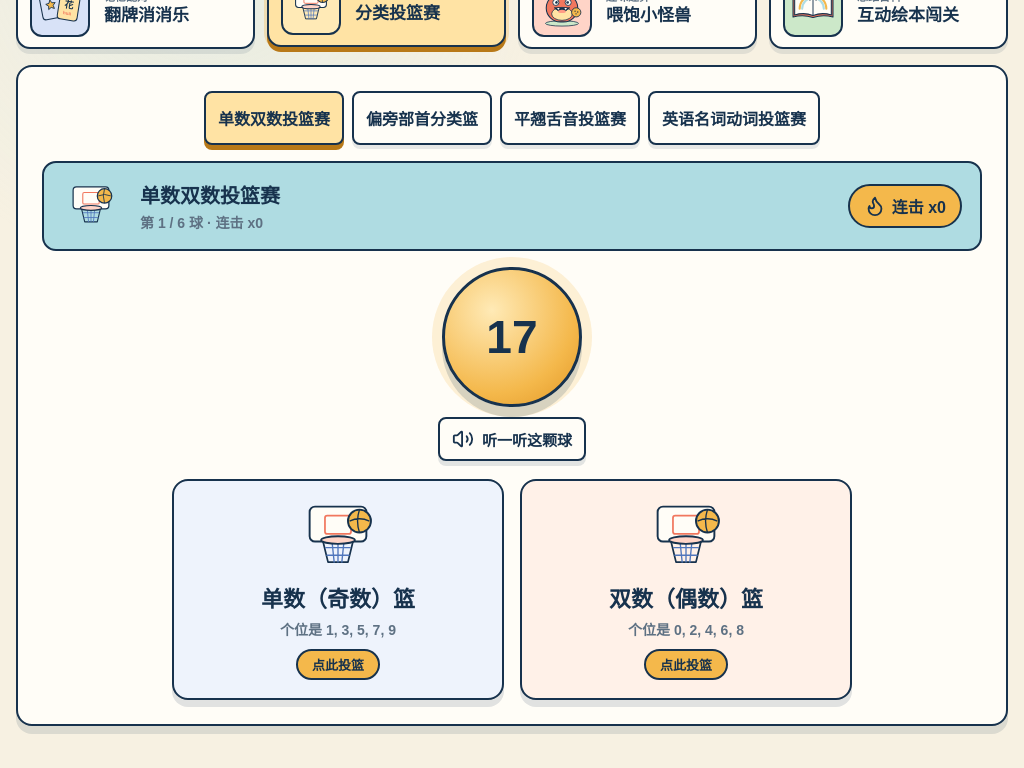
Scenario: ArcadeScreen (小芽游乐园四大互动小游戏) › switches to Sorting Basket and lets a child shoot all 6 balls into the right baskets
(page scrolled)
Click the button with test id "basket-left": click(338, 590) [172, 479, 504, 700]
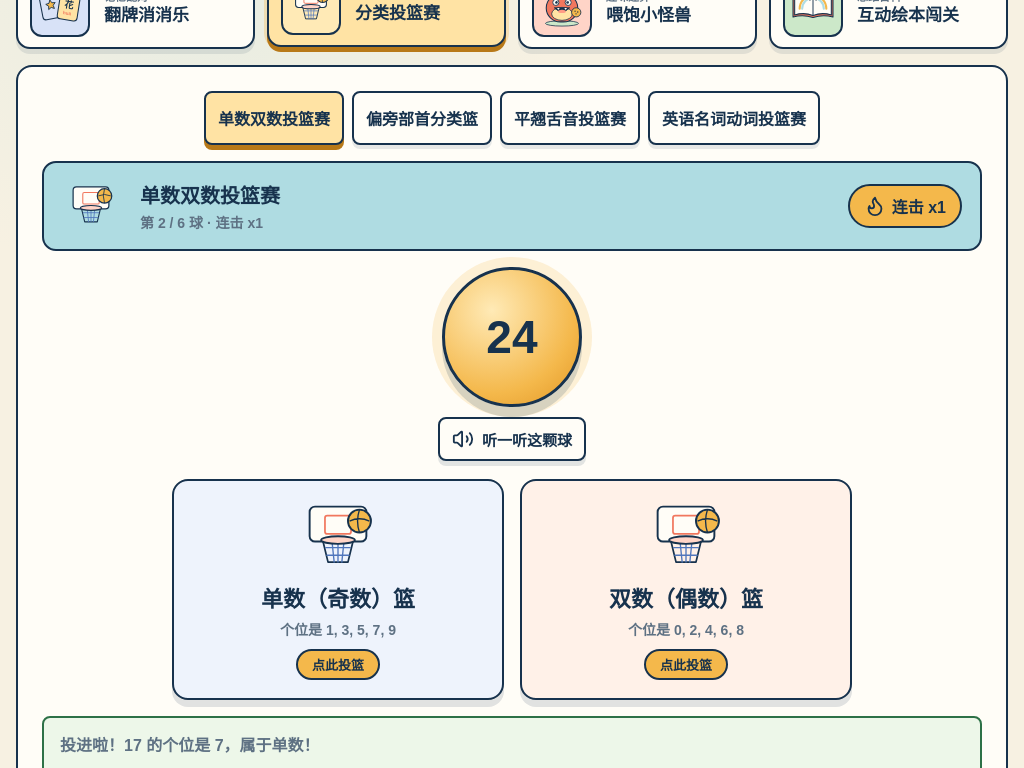
Click the button with test id "basket-right": click(686, 590) [520, 479, 852, 700]
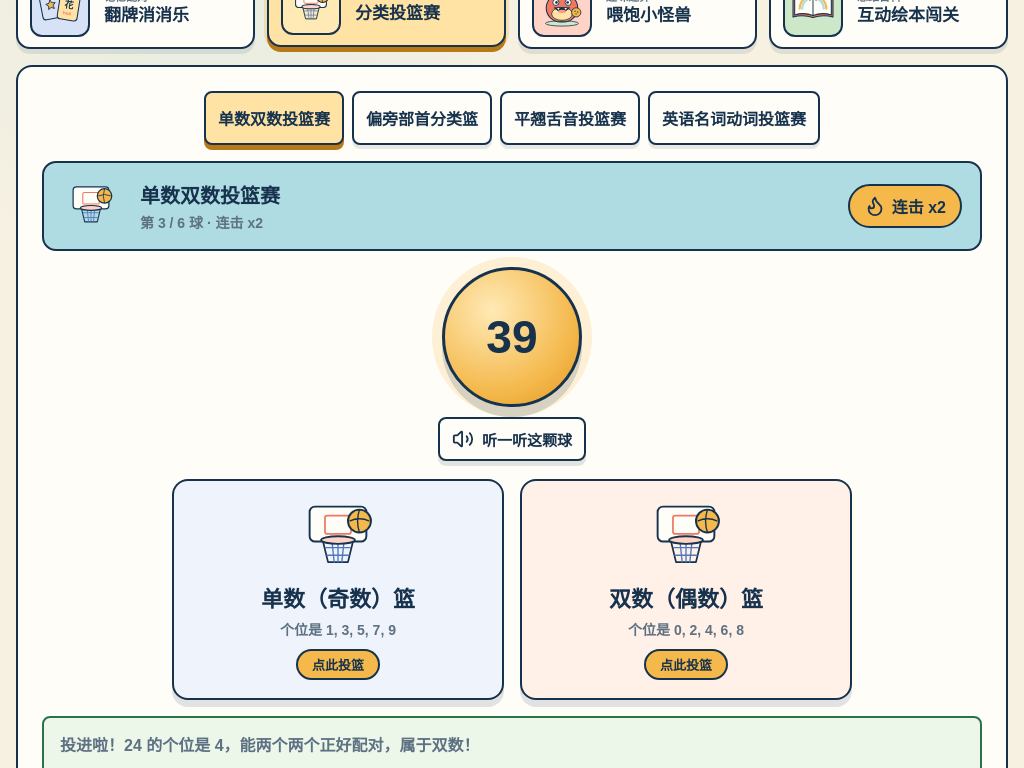
Click the button with test id "basket-left": click(338, 590) [172, 479, 504, 700]
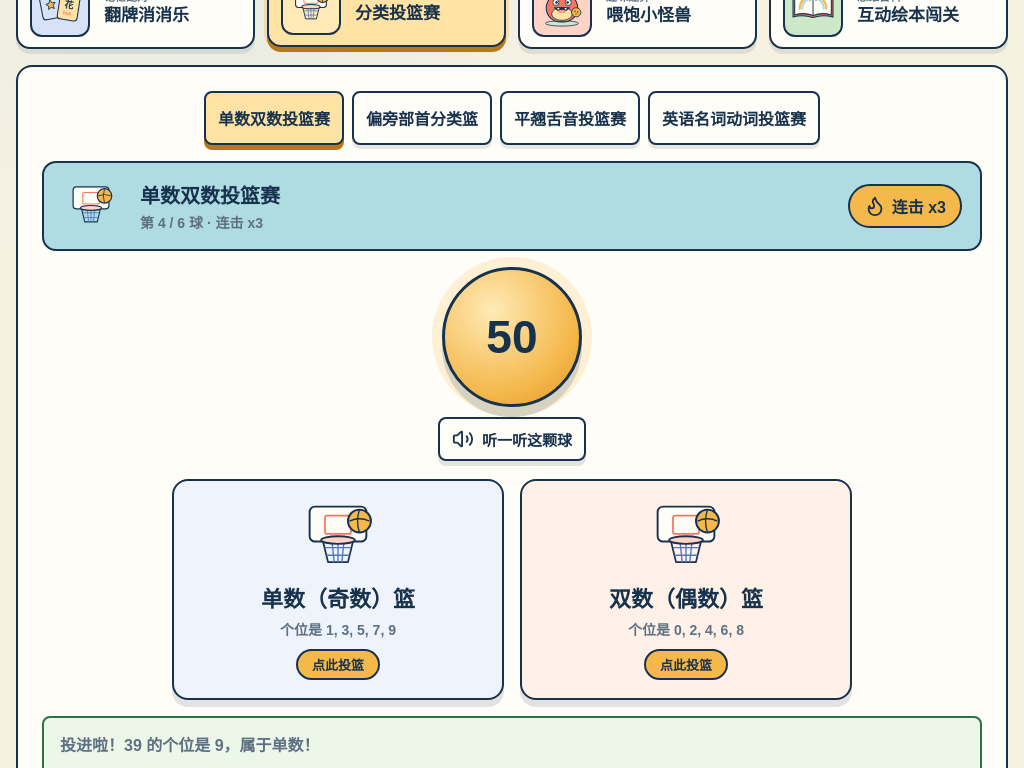
Click the button with test id "basket-right": click(686, 590) [520, 479, 852, 700]
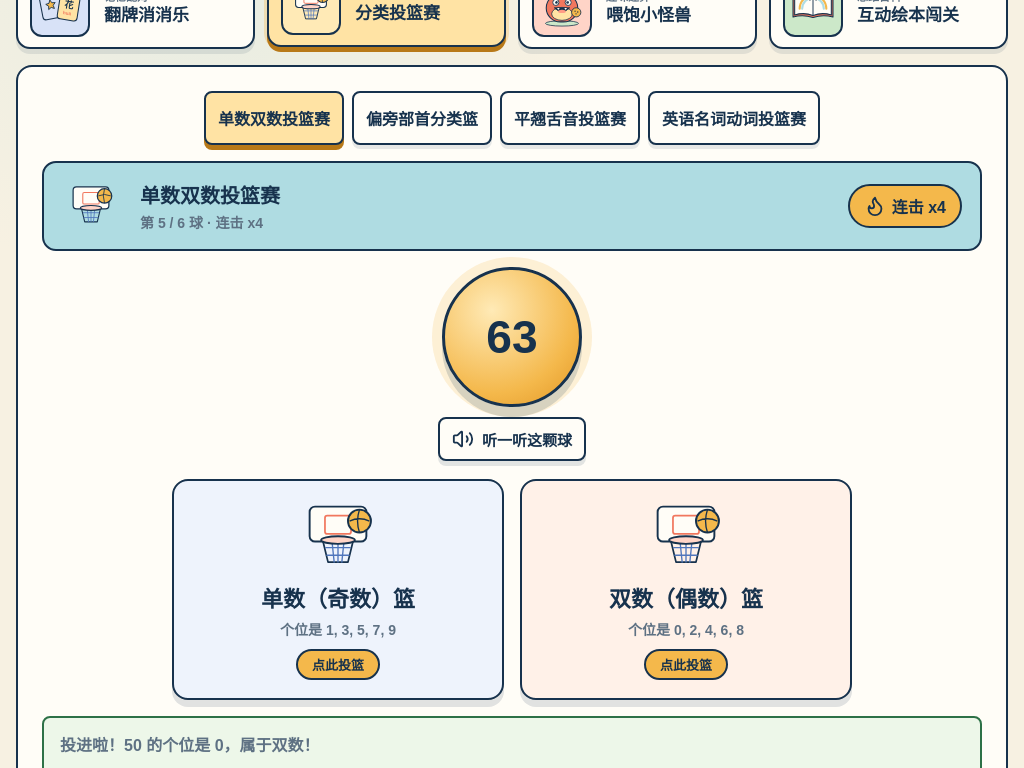
Click the button with test id "basket-left": click(338, 590) [172, 479, 504, 700]
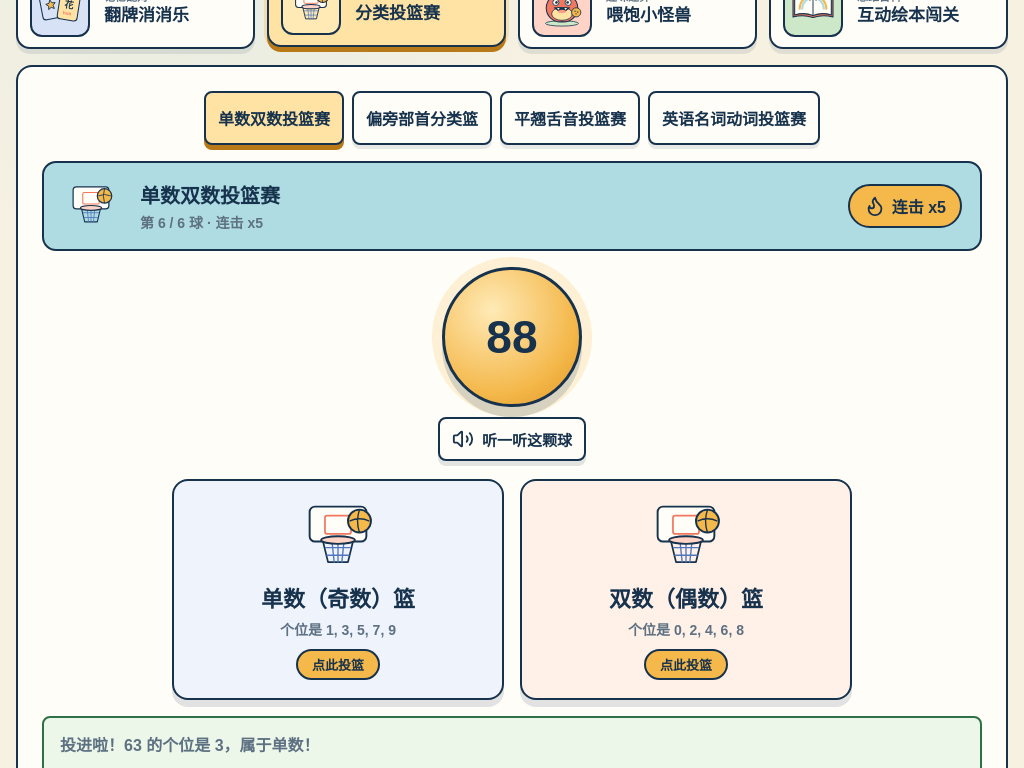
Click the button with test id "basket-right": click(686, 590) [520, 479, 852, 700]
(page scrolled)
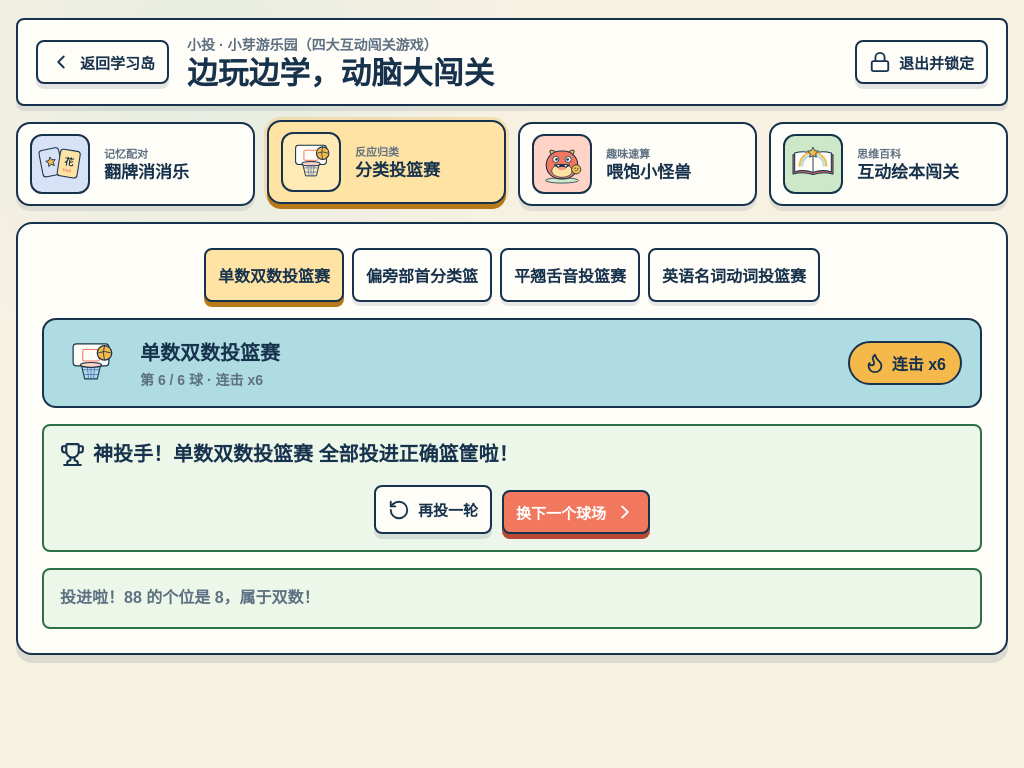
Result: the element with test id "sorting-basket-victory" is shown at [42, 424, 982, 552]
